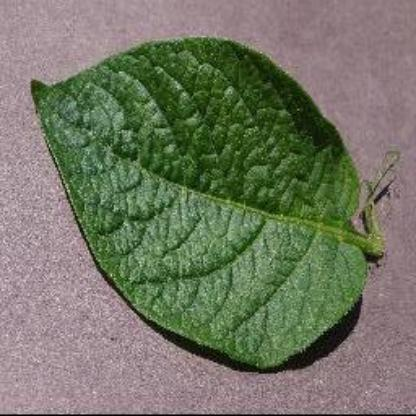Healthy-plant: (23, 27, 387, 377)
